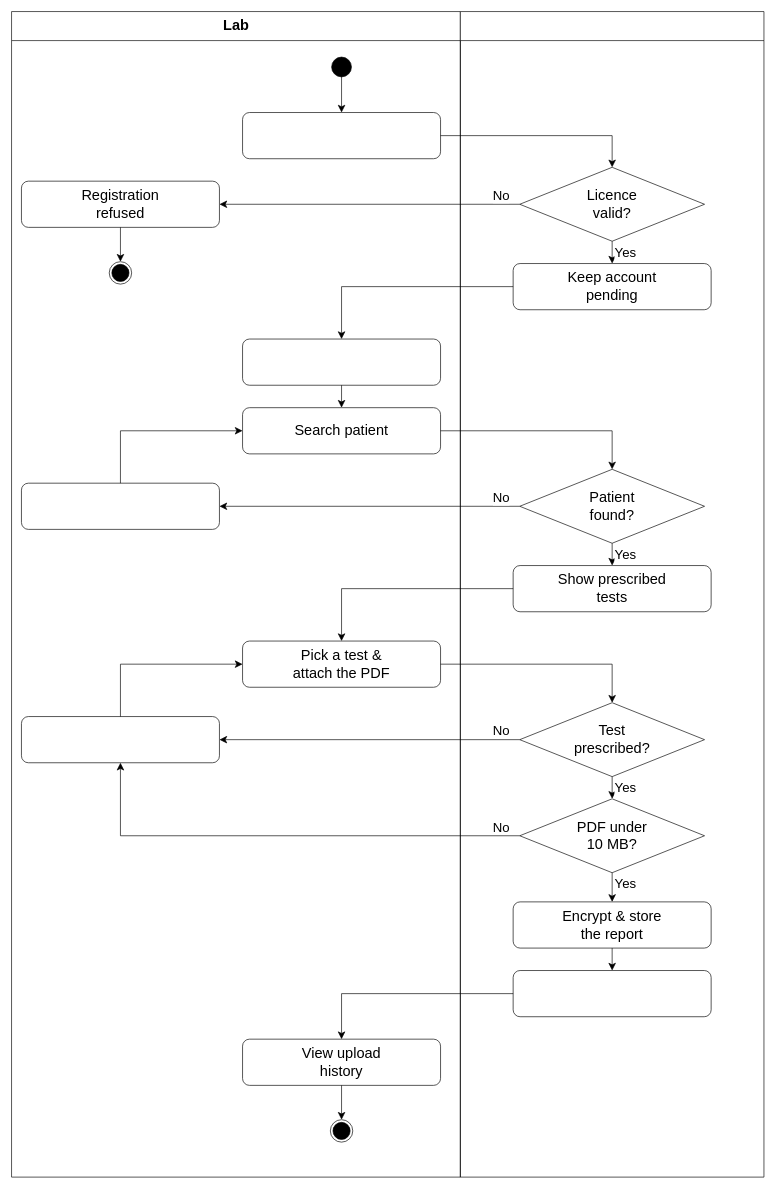
Image size: 776x1189. Some labels were removed from this diagram. The box of each missing label's shape, as (x1, y1, x2, y2) in pixels:
Check UHID / mobile number: (21, 483, 219, 529)
HealthNexus BD: (460, 11, 764, 1177)
Log in after approval: (242, 338, 441, 385)
Notify the patient: (512, 970, 711, 1017)
Register with DGHS licence: (242, 112, 441, 159)
Upload refused: (21, 716, 219, 763)
